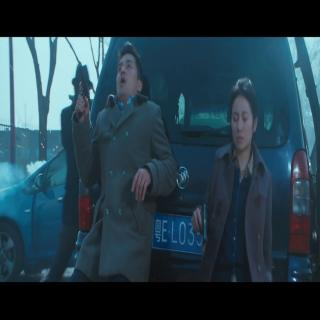gun: (74, 62, 90, 118), (192, 201, 210, 244)
